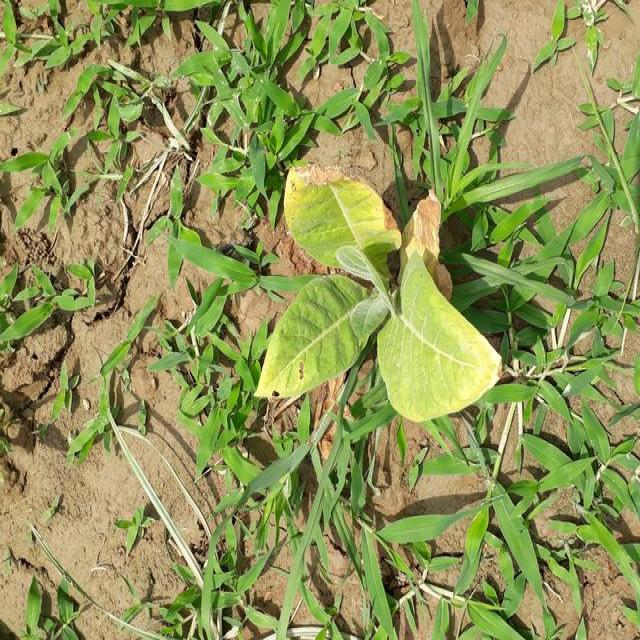crop: (259, 138, 510, 432)
